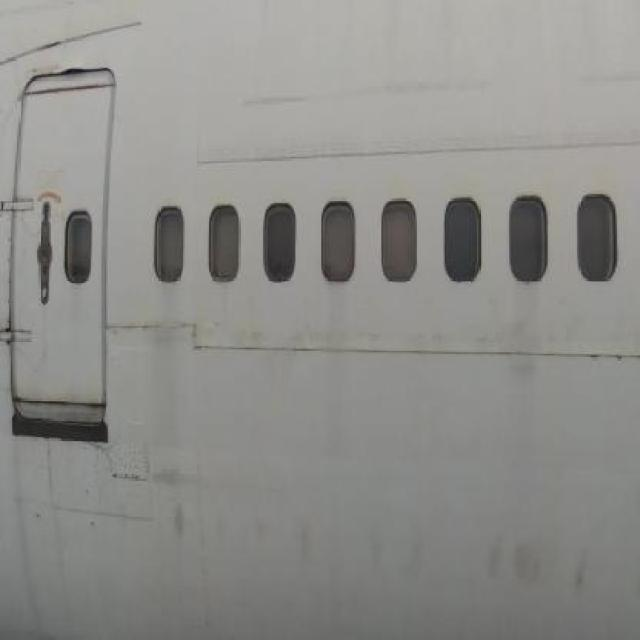Scartch: (483, 514, 608, 624), (238, 73, 492, 118), (248, 496, 328, 592), (150, 453, 216, 550), (364, 516, 428, 604), (569, 58, 640, 100)
